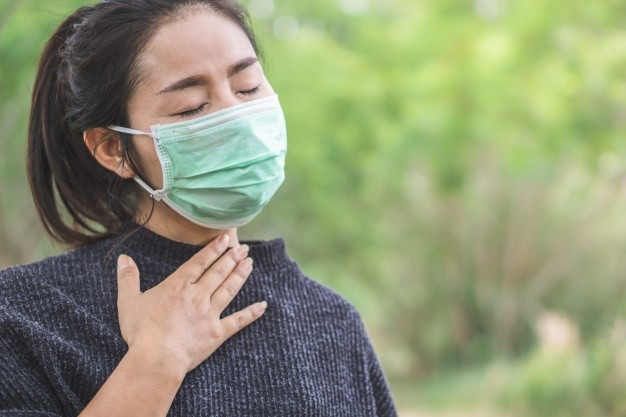face_with_mask: (52, 2, 292, 236)
